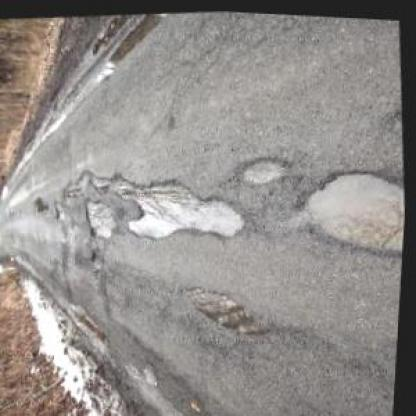pothole: (294, 156, 408, 260), (122, 166, 250, 243), (179, 274, 276, 338), (57, 164, 132, 201), (235, 150, 292, 183), (82, 194, 121, 239), (53, 197, 68, 220)
